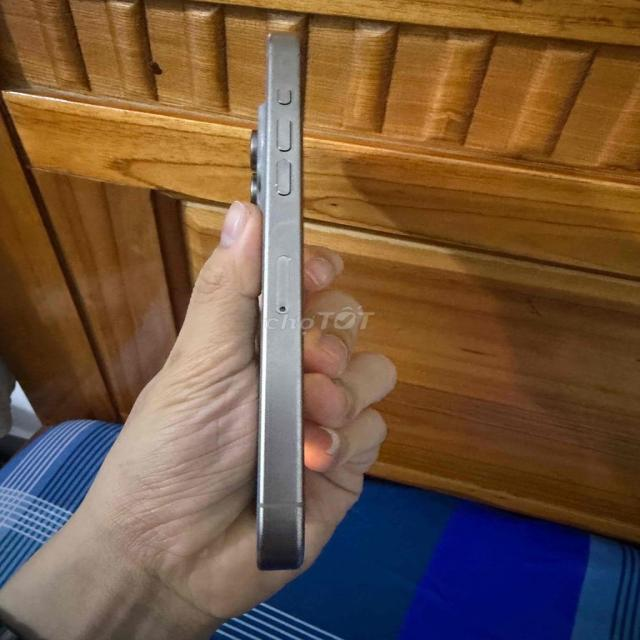gen_15: (236, 23, 329, 577)
scratch: (266, 207, 304, 243)
